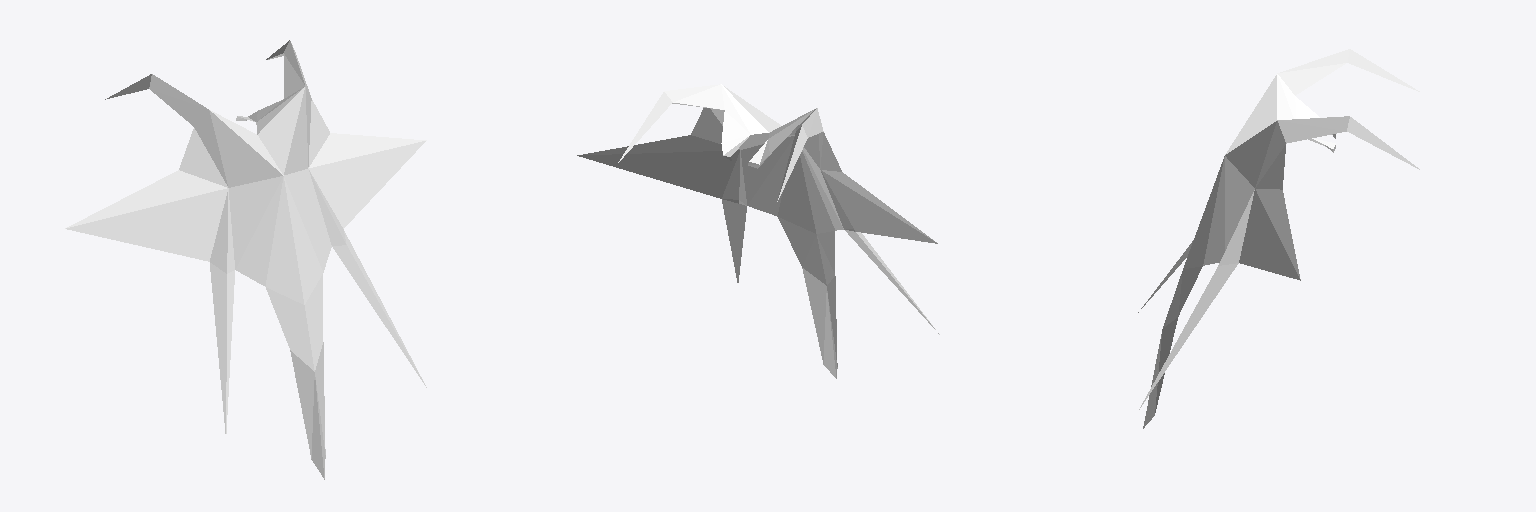
The model's file is 2_mi_cape_9.obj.
3 views of the same model, side by side, from view 1: azimuth 30°, elevation 25°; view 2: azimuth 150°, elevation 25°; view 3: azimuth 270°, elevation 25° (orthographic).
Visible parts, largest first — view 1: defaultobject; view 2: defaultobject; view 3: defaultobject.
Part boxes in pixels (x1,y1,x2,y2): defaultobject: (65,40,426,479); defaultobject: (577,84,939,378); defaultobject: (1138,49,1419,428).
Bounding box in the file's own units: 56.24 × 51.46 × 38.38.